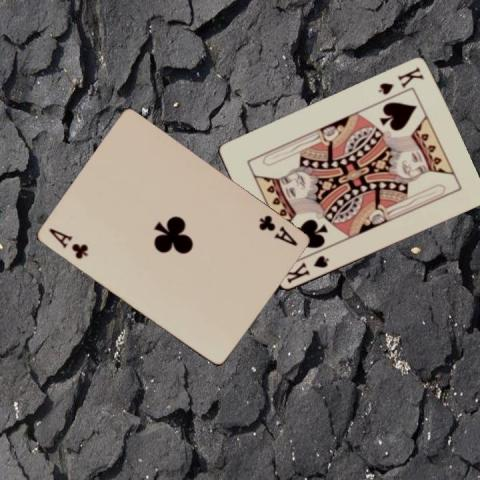Ac: (46, 225, 90, 261), (255, 212, 298, 247)
Ks: (280, 253, 331, 285), (375, 64, 426, 96)
